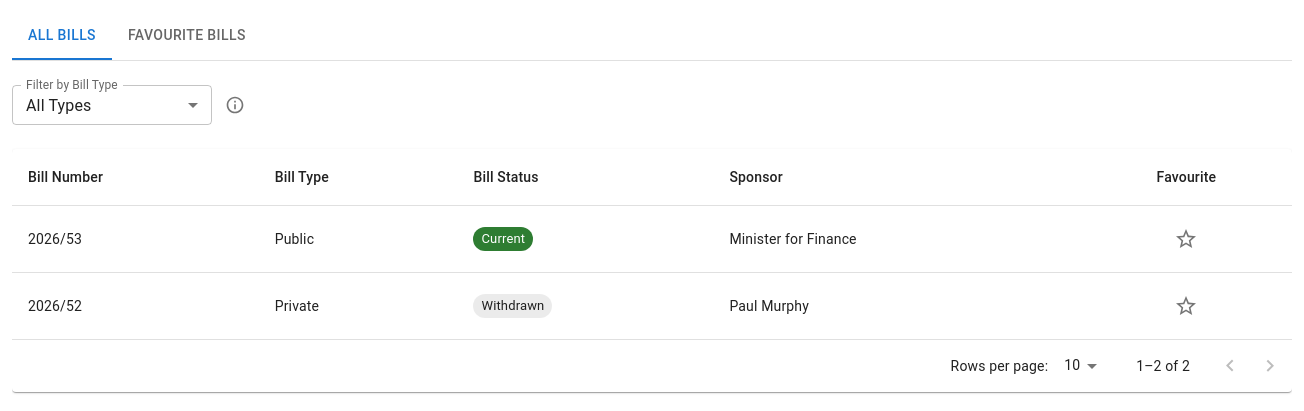
Test: BillsPage › hides filter on Favourite Bills tab
The width and height of the screenshot is (1304, 411).
Expected: the text "2026/53" is shown, [12,206,259,272]
Expected: the dropdown named "Filter by Bill Type" is shown, [26,96,92,114]
Click the tab "Favourite Bills".
click(187, 36)  # box [112,12,262,60]
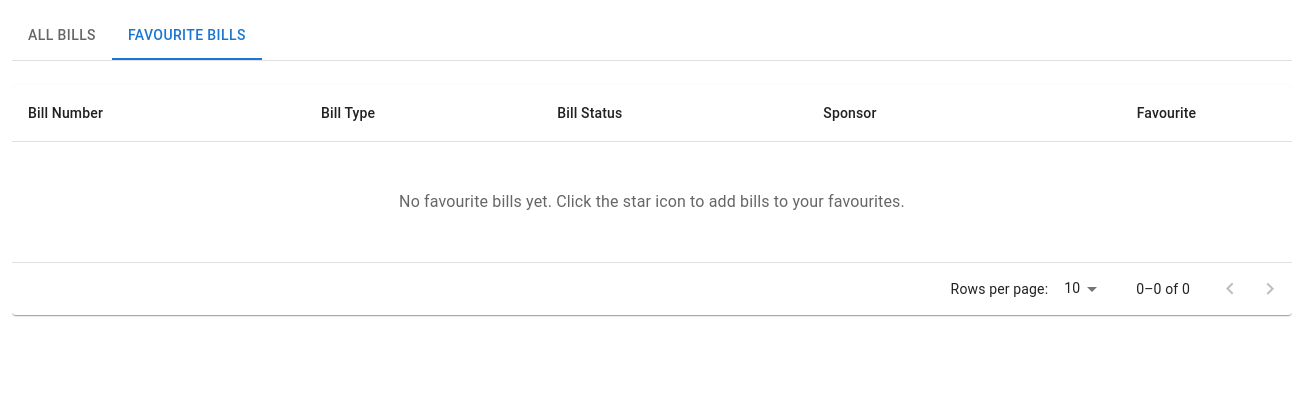
Expected: the label labelled "Filter by Bill Type" is gone
